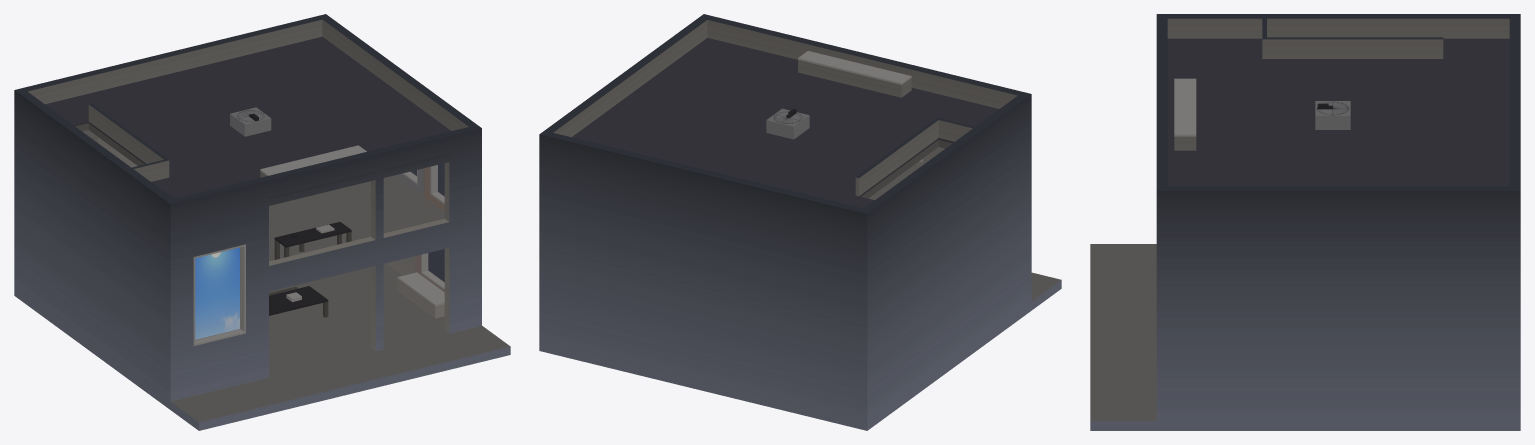
File: plot.glb
3 views of the same model, side by side, from view 1: azimuth 30°, elevation 25°; view 2: azimuth 150°, elevation 25°; view 3: azimuth 270°, elevation 25° (orthographic). The views are drawn at different scales.
Visible parts, largest first — view 1: house, facade_noon; view 2: house; view 3: house.
Part boxes in pixels (x1=…): house: x1=14, y1=14, x2=510, y2=430; facade_noon: x1=195, y1=247, x2=239, y2=339; house: x1=539, y1=14, x2=1061, y2=430; house: x1=1090, y1=14, x2=1520, y2=430.
Size of the model in its own units: 9.5 by 6 by 9.75.
Materials: 2 (2 with a texture image).
